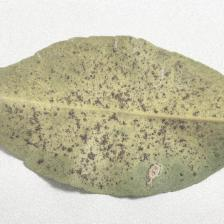canker: (37, 55, 192, 188)
